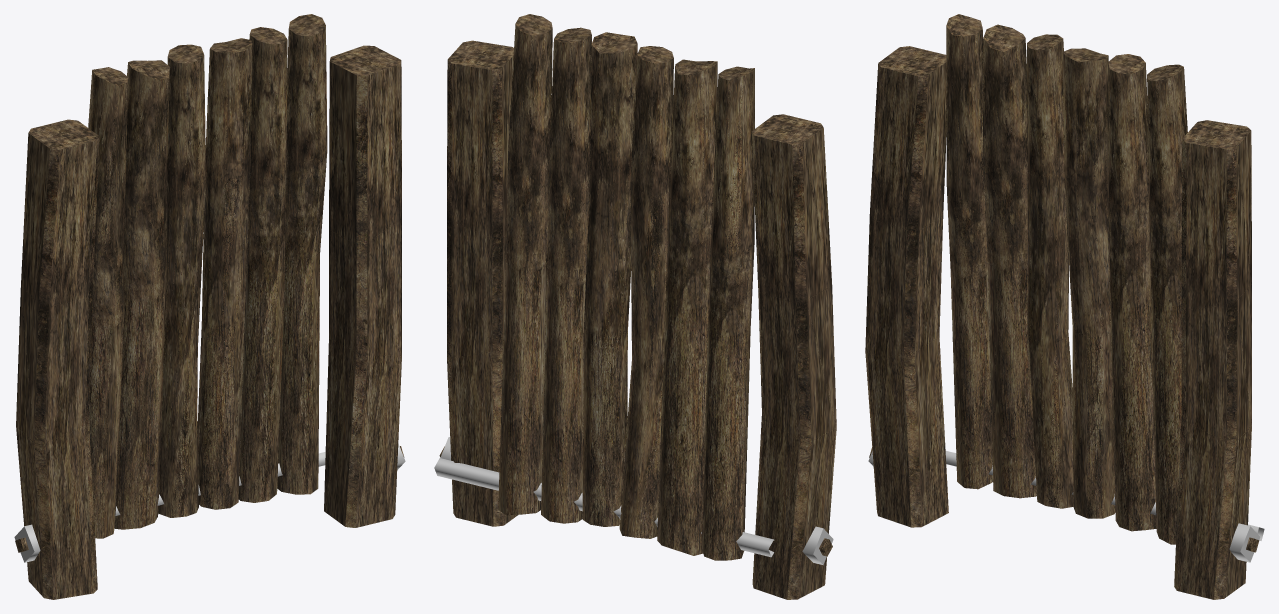
File: PortaPonte.FBX
3 views of the same model, side by side, from view 1: azimuth 30°, elevation 25°; view 2: azimuth 150°, elevation 25°; view 3: azimuth 330°, elevation 25° (orthographic).
Parts seen in each view (by area): view 1: PortaLegno, StipitiPOrtaLegno; view 2: PortaLegno, StipitiPOrtaLegno; view 3: PortaLegno, StipitiPOrtaLegno.
Boxes of the visible parts, x1,y1,x2,y2 form: PortaLegno: [88, 14, 327, 538]; StipitiPOrtaLegno: [14, 45, 405, 599]; PortaLegno: [434, 14, 774, 560]; StipitiPOrtaLegno: [439, 40, 836, 599]; PortaLegno: [945, 14, 1264, 544]; StipitiPOrtaLegno: [865, 46, 1260, 599].
Size of the model in its own units: 23.84 by 4.84 by 29.95.
